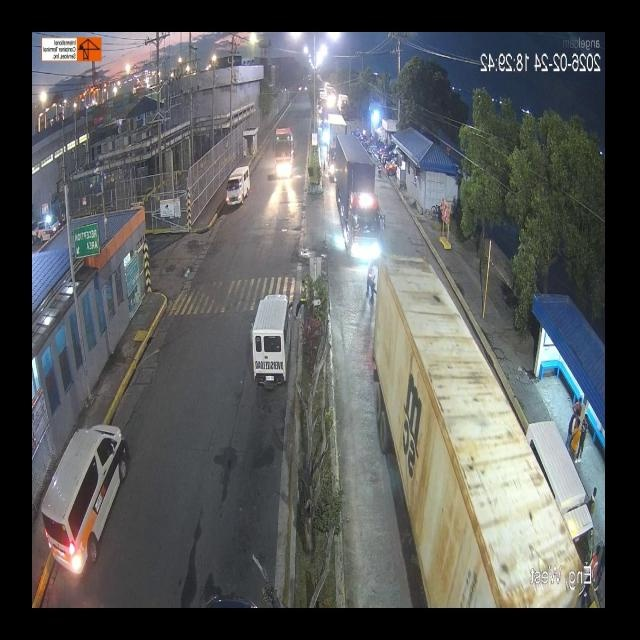car: (44, 417, 128, 580), (253, 291, 287, 394), (224, 159, 257, 227)
truck: (56, 262, 362, 600), (333, 120, 389, 259), (271, 126, 295, 193)
